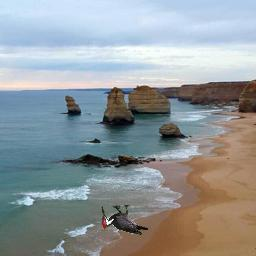Woodpecker: (102, 205, 149, 235)
